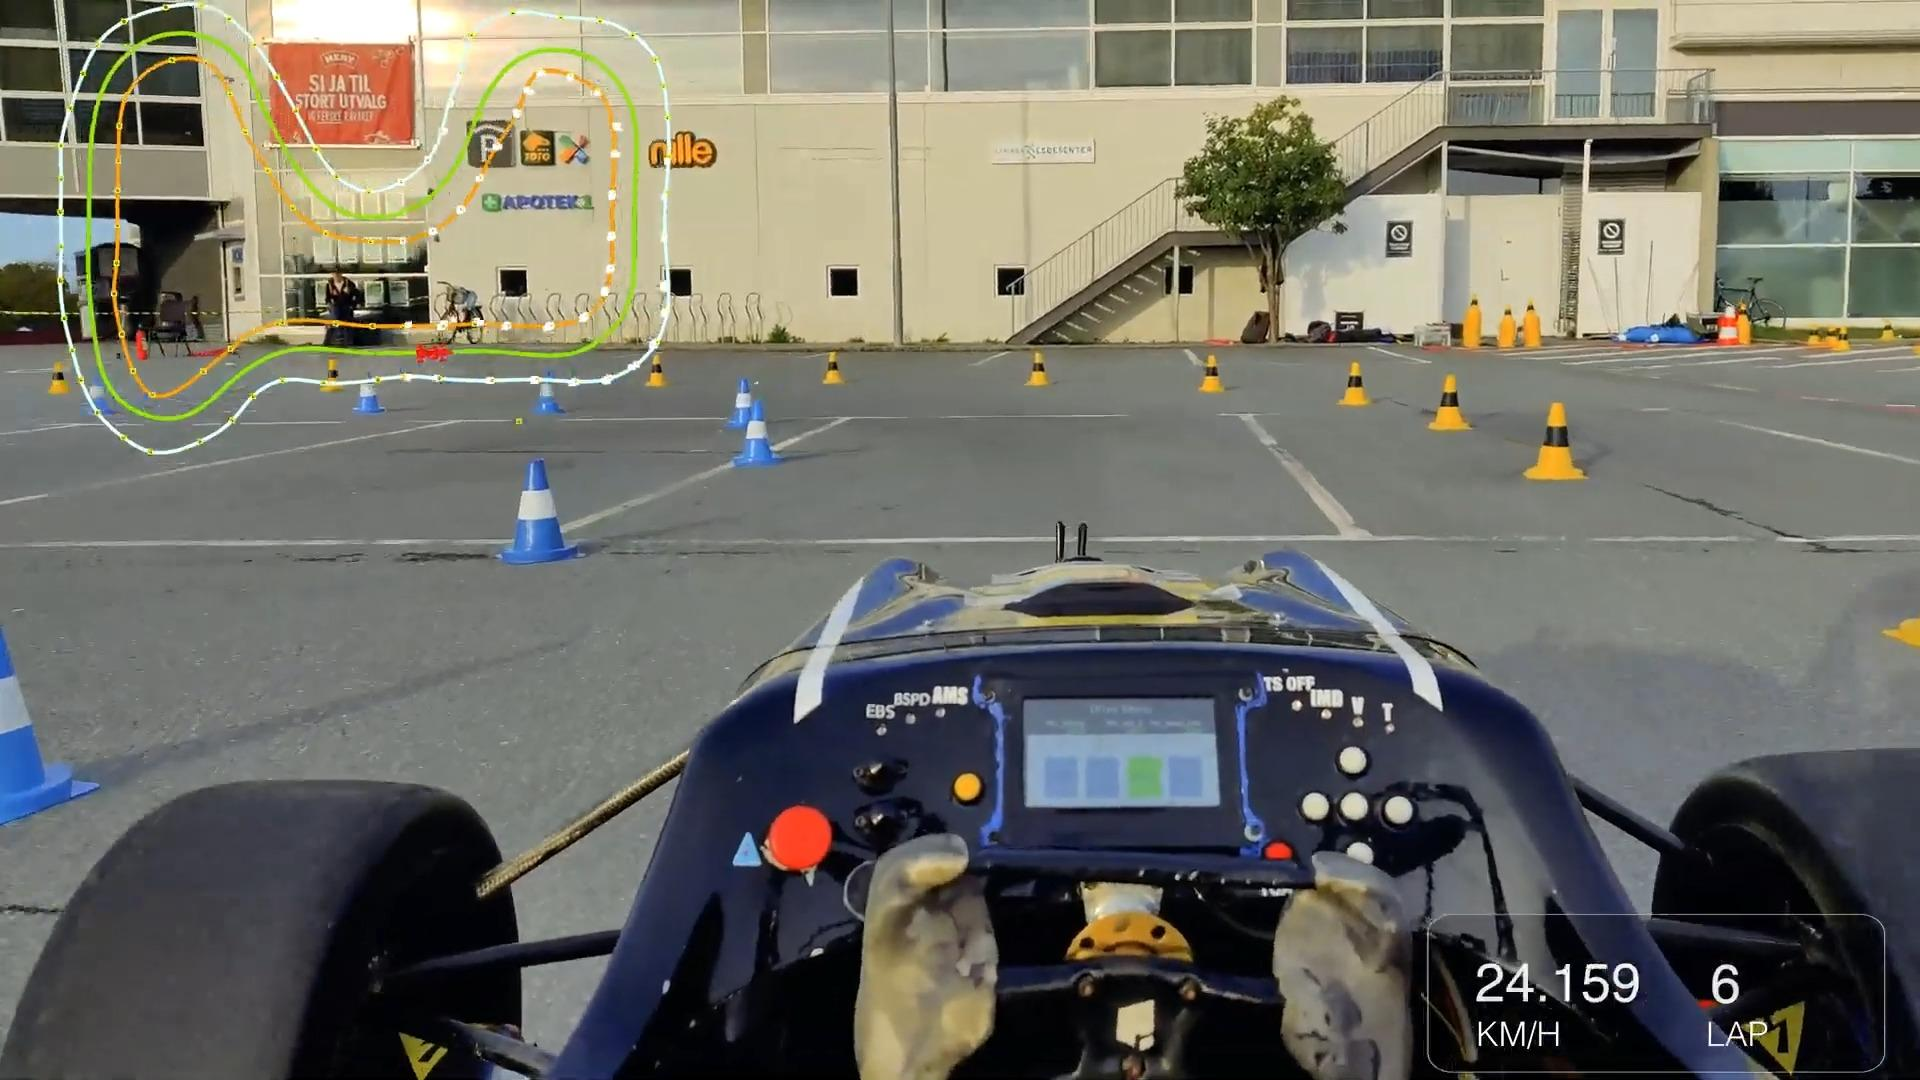blue_cone: (0, 624, 107, 829), (489, 454, 592, 571), (728, 400, 785, 472), (723, 371, 760, 431), (530, 367, 567, 422), (348, 368, 388, 419), (79, 371, 116, 419)
large_orange_cone: (1713, 299, 1741, 351)
yellow_cone: (1519, 400, 1590, 485), (1876, 559, 1920, 654), (1427, 368, 1478, 439), (1332, 360, 1373, 410), (1193, 352, 1228, 397), (1021, 345, 1055, 390), (816, 347, 847, 386), (319, 355, 345, 394), (644, 352, 671, 389), (44, 361, 71, 397), (1836, 324, 1851, 352), (1825, 322, 1840, 347), (1880, 322, 1898, 343), (1466, 291, 1481, 310), (1809, 324, 1821, 347), (1502, 302, 1515, 319), (1524, 298, 1538, 314)
